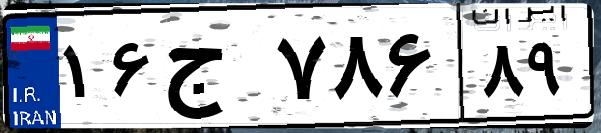1: (57, 26, 110, 100)
6: (385, 28, 445, 110), (110, 28, 158, 98)
7: (270, 28, 330, 110)
8: (330, 28, 385, 110), (475, 38, 525, 113)
9: (525, 38, 570, 115)
ج: (158, 20, 270, 120)
